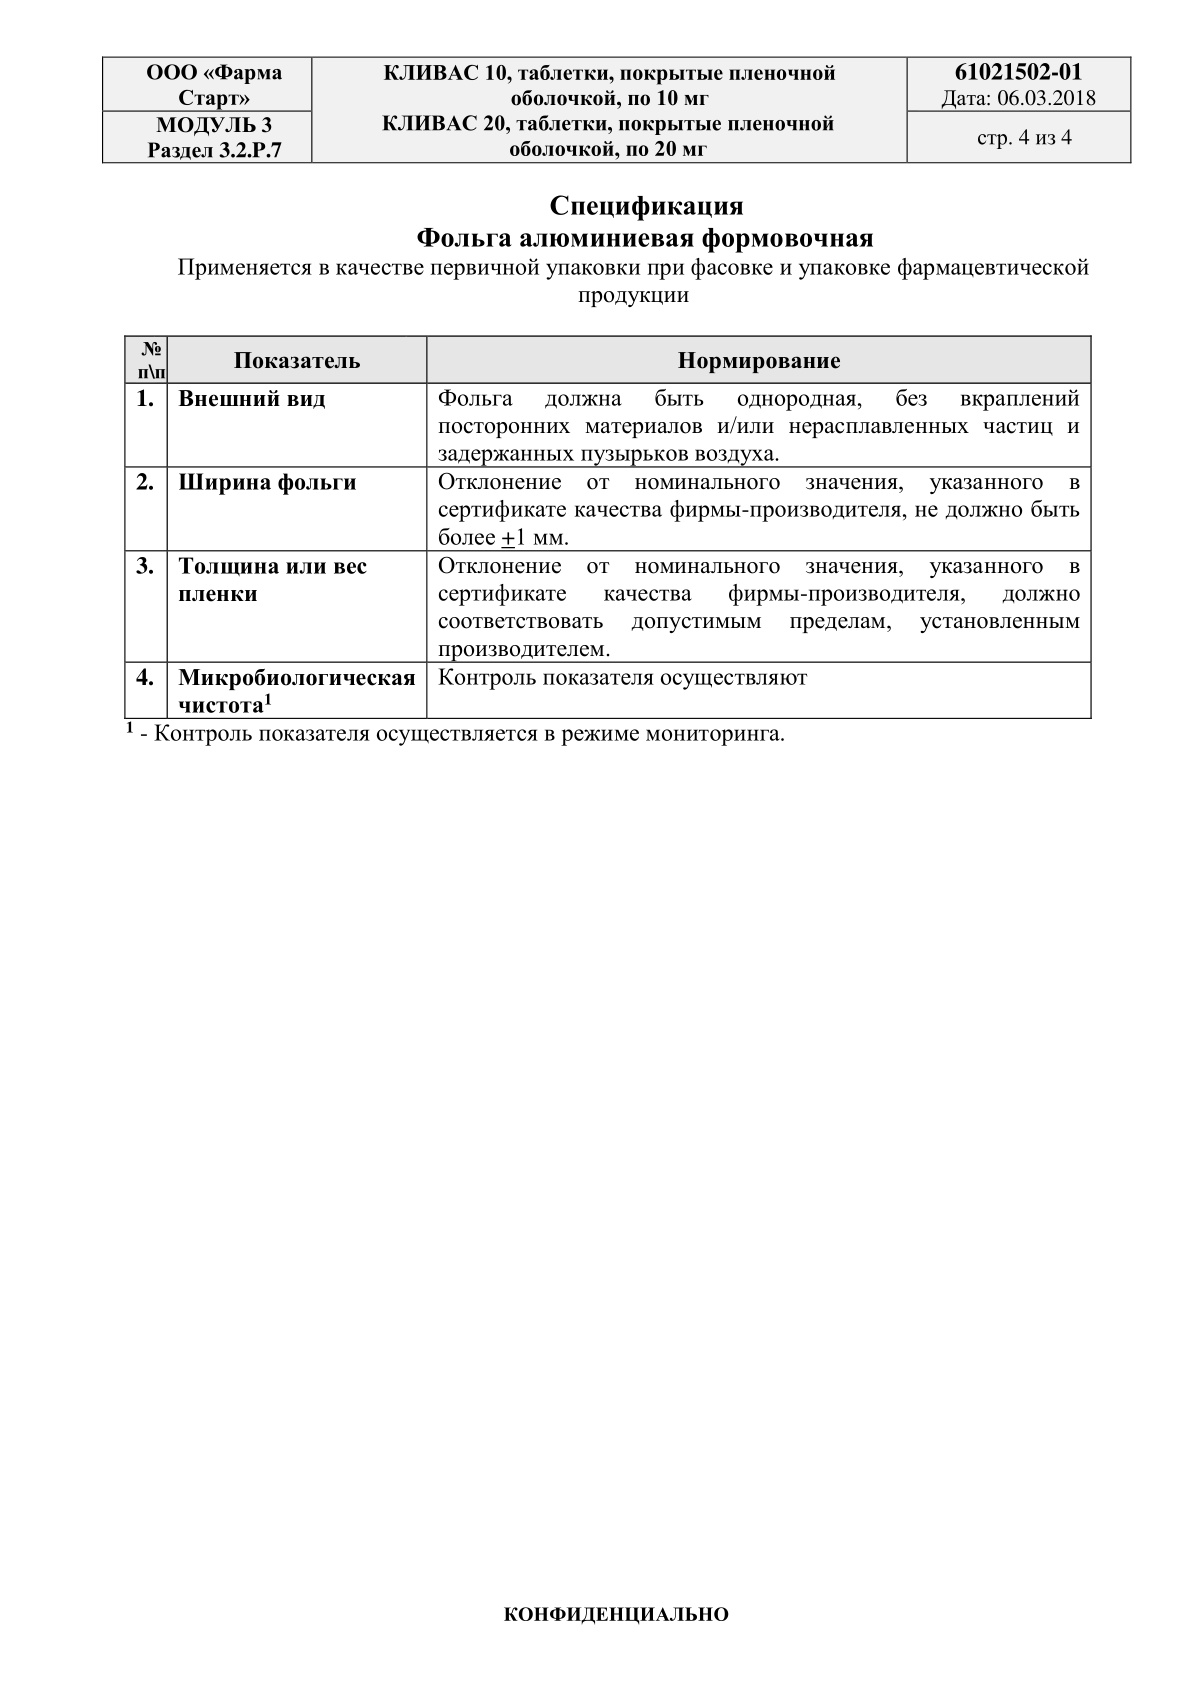full_lined: (122, 334, 1093, 719)
merged_cells: (101, 54, 1133, 165)
